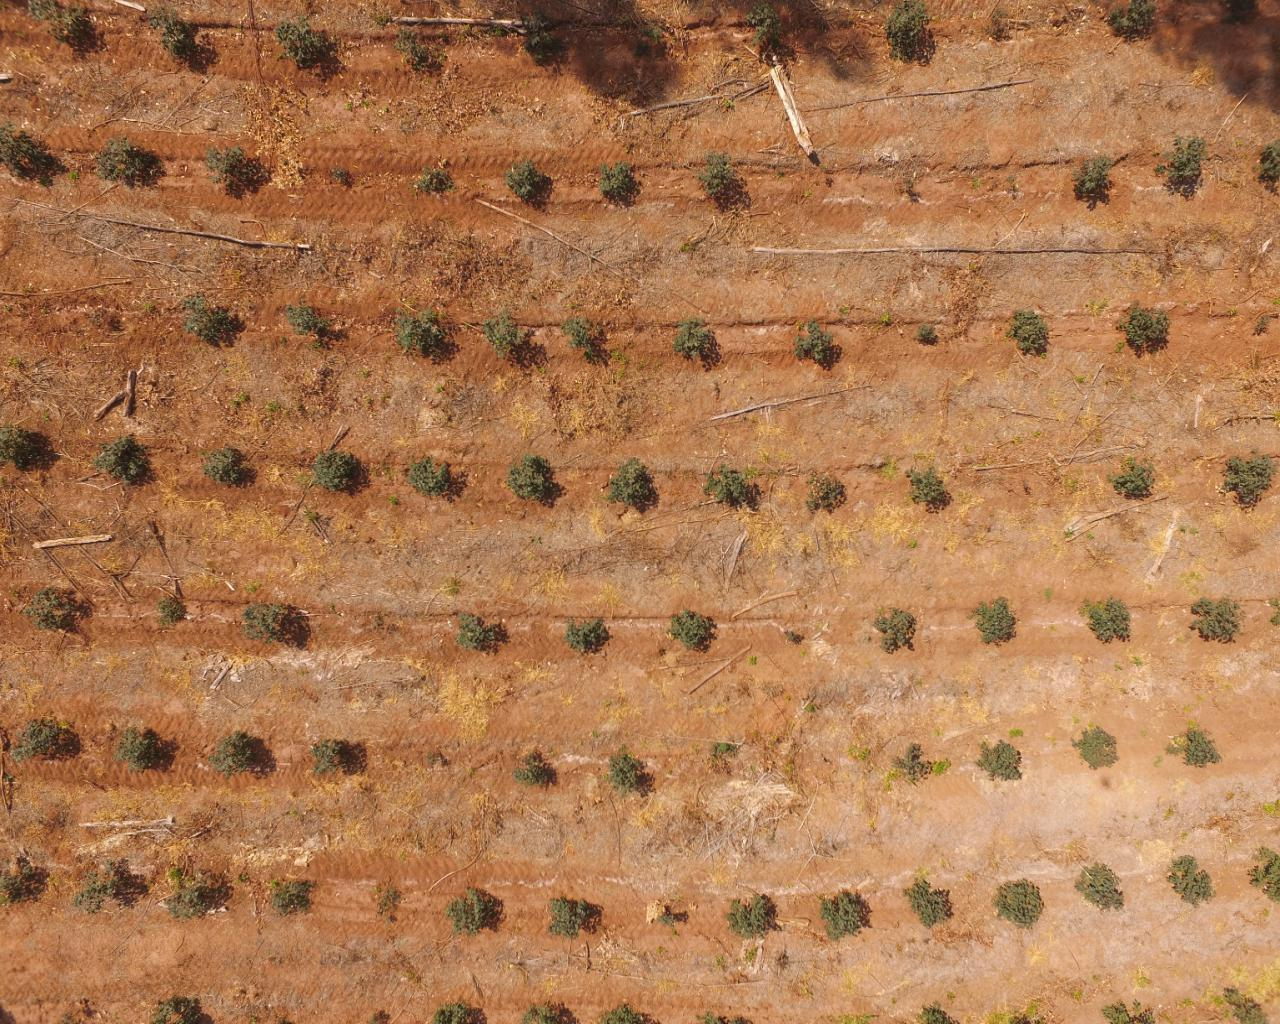Tree: (183, 294, 236, 341), (395, 313, 444, 352), (99, 440, 143, 479), (208, 150, 254, 184), (1, 135, 44, 170), (458, 615, 503, 649), (730, 899, 773, 933), (1083, 871, 1123, 907), (707, 470, 750, 504), (821, 900, 865, 932), (675, 321, 714, 357), (102, 141, 142, 177), (1196, 602, 1235, 636), (1001, 886, 1040, 921), (1, 429, 34, 469), (1228, 461, 1270, 492), (1171, 866, 1211, 899), (553, 899, 589, 933), (912, 889, 949, 923), (513, 461, 549, 494), (287, 307, 329, 335), (807, 476, 841, 510), (412, 459, 446, 491), (1014, 315, 1045, 350), (180, 887, 220, 914), (205, 455, 247, 481), (800, 323, 829, 362), (1128, 311, 1162, 344), (248, 606, 283, 636), (1093, 606, 1127, 636), (38, 596, 72, 626), (1118, 464, 1151, 494), (485, 320, 520, 348), (452, 900, 489, 927), (984, 747, 1017, 777), (911, 472, 945, 502), (1174, 143, 1200, 182), (701, 157, 728, 192), (614, 469, 648, 497), (569, 623, 605, 649), (672, 616, 708, 642), (1083, 735, 1114, 763), (123, 736, 152, 767), (319, 458, 352, 483), (882, 620, 910, 649), (158, 598, 186, 626), (983, 605, 1009, 635), (89, 877, 127, 897), (6, 876, 34, 903), (611, 761, 637, 789), (1084, 160, 1108, 190), (222, 742, 248, 769), (275, 889, 307, 910), (1189, 734, 1212, 763), (26, 727, 55, 750), (511, 169, 539, 192), (316, 747, 345, 769), (566, 319, 592, 342), (381, 890, 400, 921), (899, 757, 926, 775), (423, 169, 446, 191), (1265, 146, 1279, 182), (605, 169, 626, 191), (520, 765, 544, 782), (918, 327, 936, 344), (333, 170, 348, 181)
